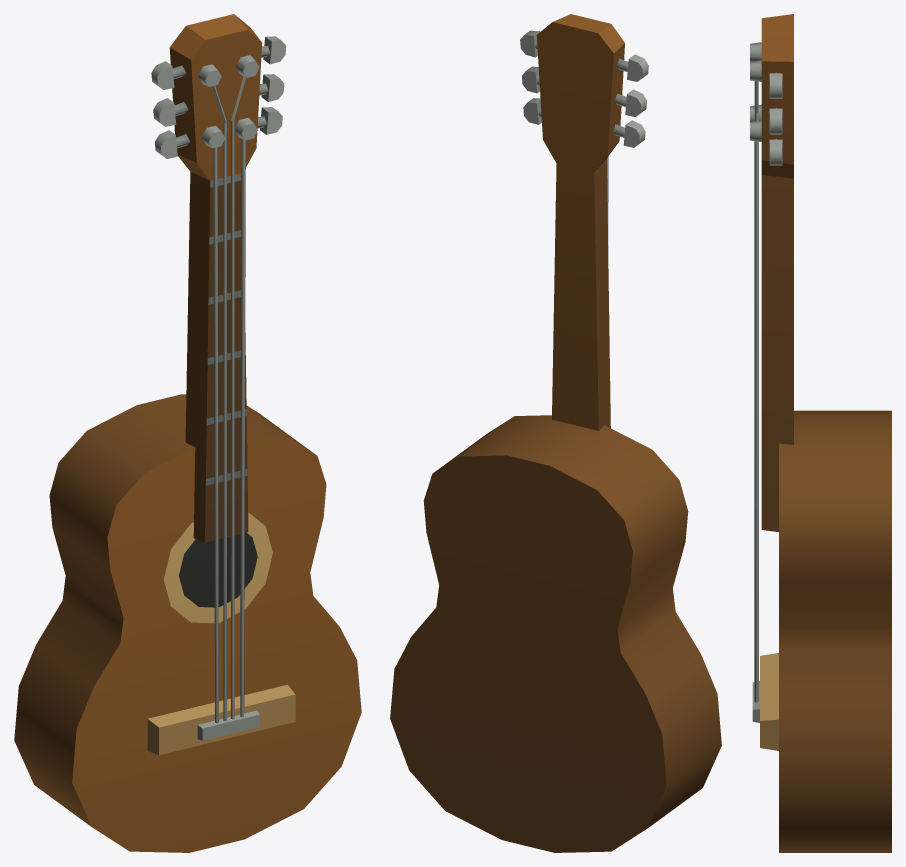
File: SM_Guitar.fbx
3 views of the same model, side by side, from view 1: azimuth 30°, elevation 25°; view 2: azimuth 150°, elevation 25°; view 3: azimuth 270°, elevation 25° (orthographic). The views are drawn at different scales.
Parts seen in each view (by area): view 1: SM_Guitar; view 2: SM_Guitar; view 3: SM_Guitar.
Part boxes in pixels (x1,y1,x2,y2): SM_Guitar: [14, 14, 361, 852]; SM_Guitar: [390, 14, 721, 852]; SM_Guitar: [750, 14, 891, 852].
Size of the model in its own units: 54.35 by 147 by 23.6.
